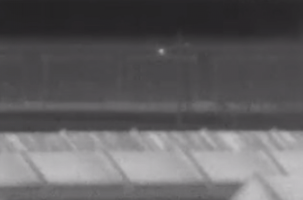Target: (158, 50, 162, 54)
